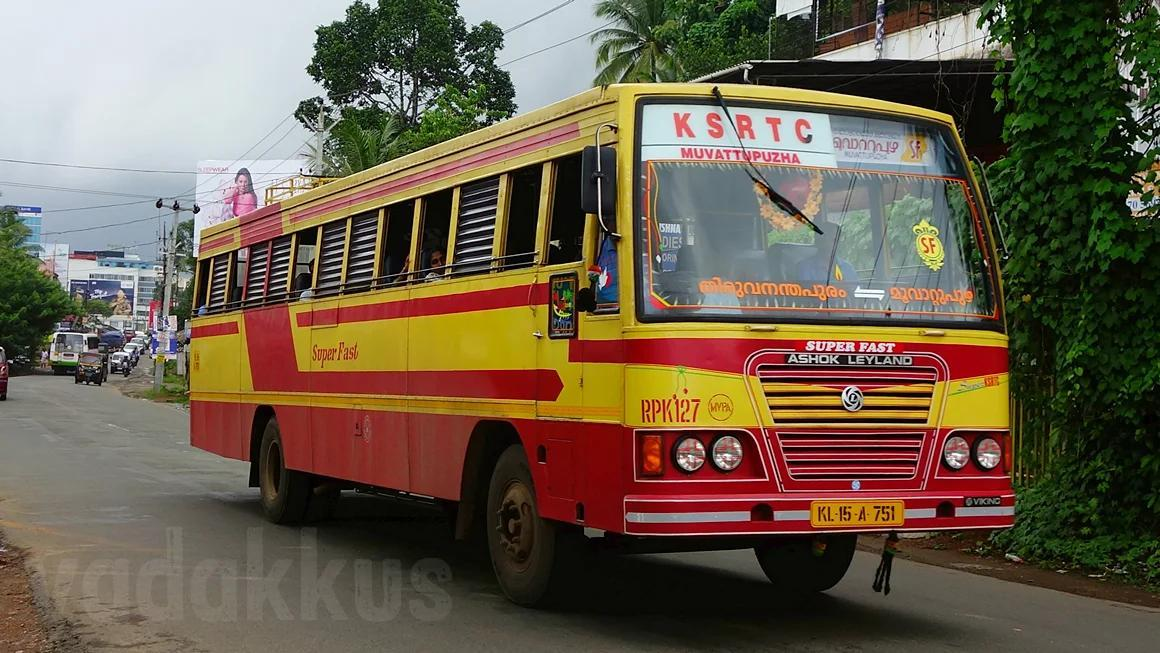Bus: (185, 81, 1020, 608)
